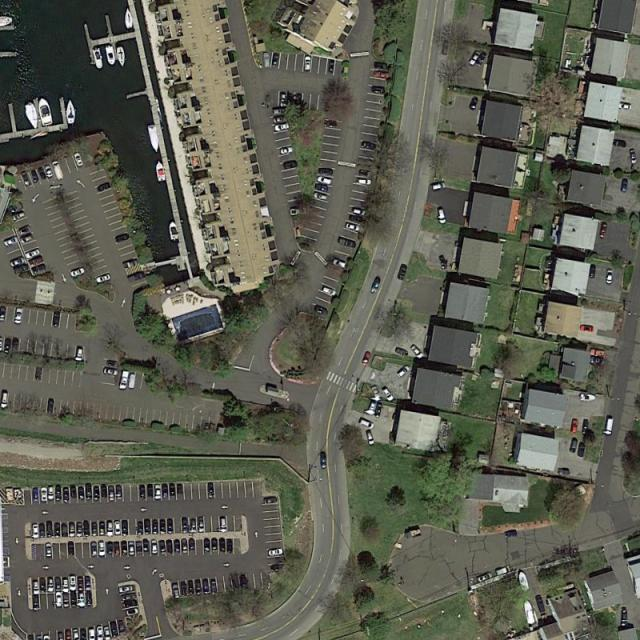vehicle: (474, 570, 494, 586), (338, 237, 358, 250), (31, 262, 49, 276), (277, 145, 296, 158), (534, 595, 547, 614), (9, 254, 25, 269), (118, 370, 130, 390), (468, 50, 482, 67), (370, 277, 384, 294), (380, 385, 394, 402), (494, 565, 511, 579), (436, 206, 448, 225), (603, 417, 615, 436), (70, 266, 86, 280), (25, 247, 41, 261), (20, 171, 33, 188), (102, 365, 119, 378), (360, 350, 373, 367), (313, 303, 330, 316), (437, 253, 450, 270), (568, 437, 580, 455), (627, 148, 639, 166), (108, 620, 120, 638), (14, 306, 25, 325), (51, 309, 62, 328), (468, 95, 481, 111), (397, 365, 413, 378), (358, 417, 374, 430), (13, 263, 30, 275), (344, 222, 361, 234), (578, 322, 595, 334), (590, 347, 608, 358), (620, 606, 629, 628), (364, 428, 375, 446), (170, 582, 181, 600), (3, 235, 18, 248), (333, 258, 349, 270), (10, 211, 26, 223), (410, 342, 422, 358), (122, 259, 138, 271), (555, 466, 571, 478), (611, 138, 627, 150), (599, 220, 609, 239), (282, 160, 299, 171), (317, 175, 334, 186), (18, 234, 35, 245), (95, 273, 112, 284), (267, 547, 284, 558), (352, 206, 367, 218), (30, 255, 45, 267), (115, 233, 130, 245), (579, 392, 597, 402), (74, 346, 86, 361), (371, 386, 383, 401), (397, 262, 407, 280), (114, 484, 124, 502), (186, 578, 196, 596), (314, 183, 330, 194), (121, 599, 137, 610), (1, 390, 10, 409), (373, 70, 390, 80), (605, 269, 615, 286), (206, 483, 216, 500), (322, 286, 336, 298), (619, 100, 633, 112), (43, 165, 55, 179), (582, 418, 591, 436), (138, 484, 147, 502), (181, 580, 190, 598), (314, 192, 330, 202), (589, 262, 599, 278), (571, 418, 581, 434), (34, 366, 44, 382), (31, 524, 41, 540), (374, 403, 384, 419), (68, 575, 78, 591), (37, 168, 48, 182), (30, 169, 41, 183), (73, 152, 84, 166), (360, 141, 377, 150), (621, 178, 630, 195), (181, 516, 190, 533), (53, 521, 62, 538), (62, 486, 71, 503), (90, 520, 99, 537), (218, 538, 227, 555), (181, 538, 190, 555), (38, 577, 47, 594), (85, 590, 94, 607), (55, 592, 64, 609), (162, 483, 170, 502), (46, 522, 54, 541), (303, 58, 313, 73), (59, 522, 69, 537), (47, 398, 56, 414), (578, 441, 586, 459), (240, 572, 249, 588), (69, 522, 78, 538), (38, 522, 46, 540), (154, 484, 162, 502), (77, 486, 86, 502), (203, 538, 211, 556), (89, 543, 98, 559), (209, 578, 218, 594), (202, 578, 211, 594), (195, 578, 204, 594), (98, 182, 111, 193), (82, 577, 93, 590), (279, 92, 289, 106), (18, 225, 32, 235), (591, 356, 605, 366), (368, 401, 378, 415), (77, 592, 87, 606), (274, 123, 291, 131), (320, 452, 328, 469), (101, 483, 109, 500), (211, 538, 219, 555), (70, 592, 78, 609), (318, 168, 333, 177), (272, 54, 281, 69), (82, 521, 91, 536), (175, 483, 184, 498), (54, 486, 63, 501), (62, 593, 71, 608), (432, 182, 445, 192), (505, 528, 518, 538), (96, 542, 106, 555), (126, 607, 139, 617), (32, 597, 42, 610), (85, 484, 93, 500), (67, 542, 75, 558), (115, 519, 123, 535), (159, 539, 167, 555), (32, 486, 40, 502), (62, 577, 70, 593), (47, 578, 55, 594), (147, 483, 154, 501), (41, 486, 48, 504), (356, 178, 371, 186), (167, 518, 175, 533), (45, 543, 53, 558), (189, 539, 197, 554), (106, 521, 114, 536), (174, 540, 182, 555), (151, 541, 159, 556), (136, 542, 144, 557), (106, 542, 114, 557), (47, 486, 55, 501), (120, 594, 135, 602), (71, 628, 81, 640), (77, 577, 85, 592), (54, 577, 62, 592), (323, 121, 338, 129), (13, 338, 20, 355), (145, 518, 152, 535), (227, 538, 234, 555), (371, 86, 384, 95), (374, 61, 387, 70), (274, 116, 290, 123), (1, 306, 8, 322), (5, 338, 12, 354), (190, 518, 198, 532), (108, 486, 115, 502), (94, 486, 101, 502), (70, 484, 77, 500), (152, 518, 159, 534), (137, 521, 145, 535), (118, 586, 134, 593), (328, 62, 337, 74), (87, 628, 96, 640), (32, 582, 41, 594), (199, 516, 206, 531), (76, 522, 83, 537), (122, 519, 129, 534), (99, 520, 106, 535), (167, 539, 174, 554), (395, 347, 408, 355), (265, 496, 278, 504), (220, 517, 227, 531), (169, 483, 176, 497), (121, 542, 128, 556), (114, 542, 121, 556), (104, 626, 111, 640), (96, 626, 103, 640), (118, 620, 125, 634), (161, 518, 167, 534), (142, 543, 150, 555), (129, 542, 136, 555), (349, 216, 363, 222), (79, 628, 86, 640), (64, 629, 71, 640), (56, 631, 64, 640), (43, 634, 51, 640), (27, 634, 34, 640), (1, 338, 3, 351), (37, 636, 42, 640)
